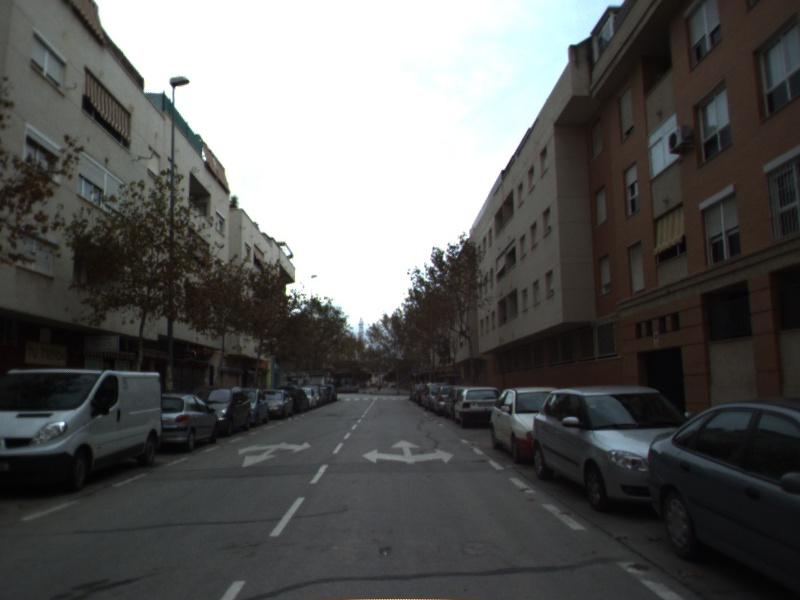STRAIGHT_LEFT_RIGHT: (360, 438, 456, 466)
